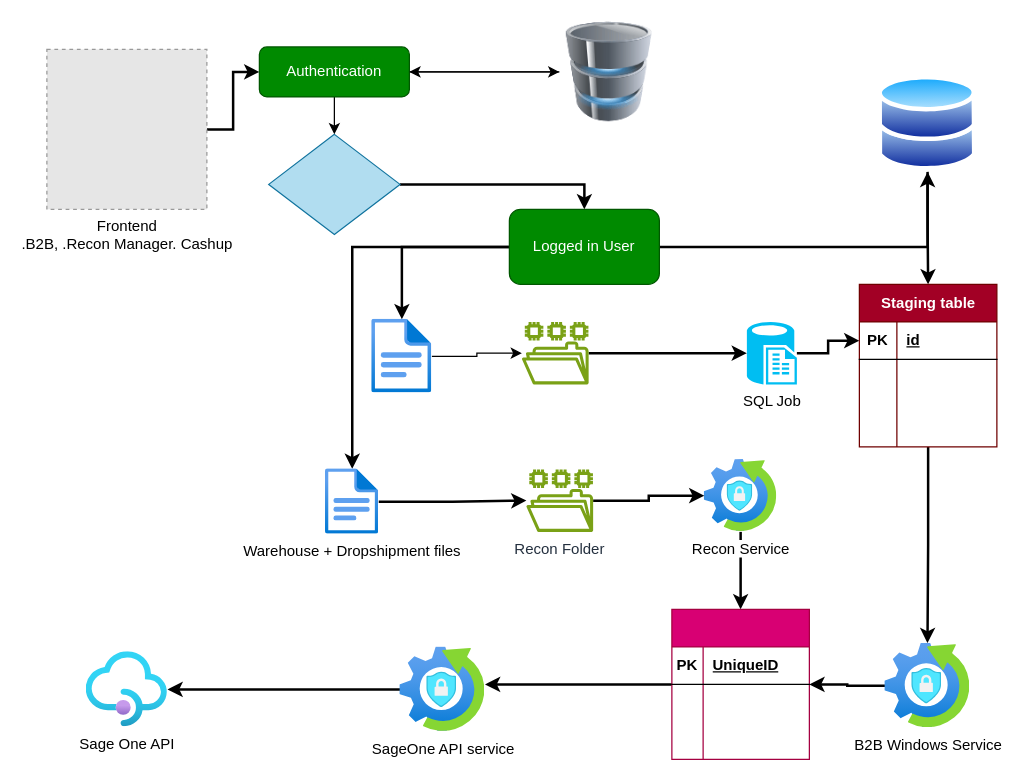
Image size: 1023x781. Some labels were removed from this diagram. Grey dashed boxes stand in for pictures. The shapes that lost their labels are listed below. From the top down, each one's box as (x1, y1, x2, y2) in pixels, then its label:
(559, 21, 659, 121): Hub Database
(878, 74, 976, 171): Tenant database
(268, 133, 400, 234): is login successful?
(371, 319, 431, 392): Sigma File
(521, 321, 588, 384): B2B Folder
(671, 608, 809, 759): Transaction
